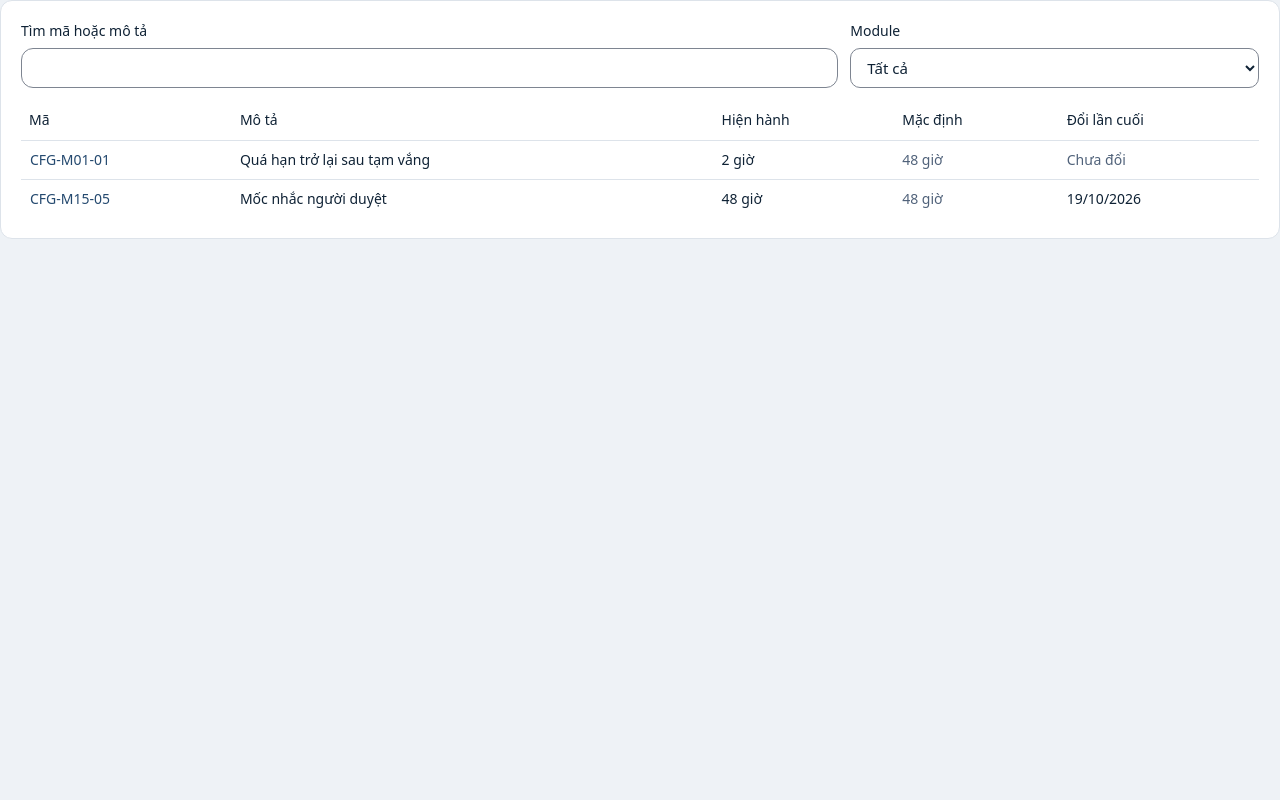
Scenario: ParameterList › bamDong_moKhungChiTiet_doiGiaTri_capNhatDong
Click the button "CFG-M15-05" at (70, 199), box [29,188,111,210]
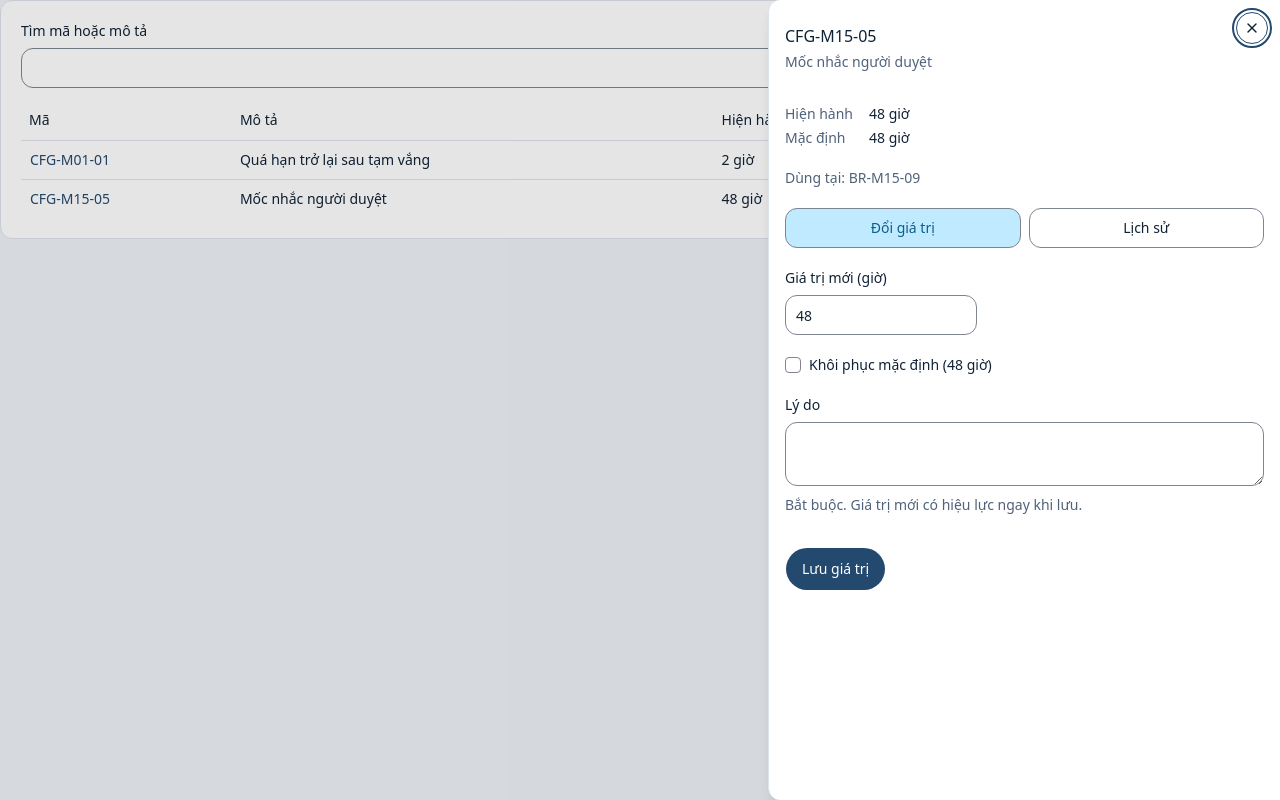
Now the text "Mốc nhắc người duyệt" is shown, box [785,52,932,71]
Now the text "Dùng tại: BR-M15-09" is shown, box [785,168,920,187]
Replace the text in the number field labelled "Giá trị mới (giờ)" with "72" at (881, 315), box [785,295,977,335]
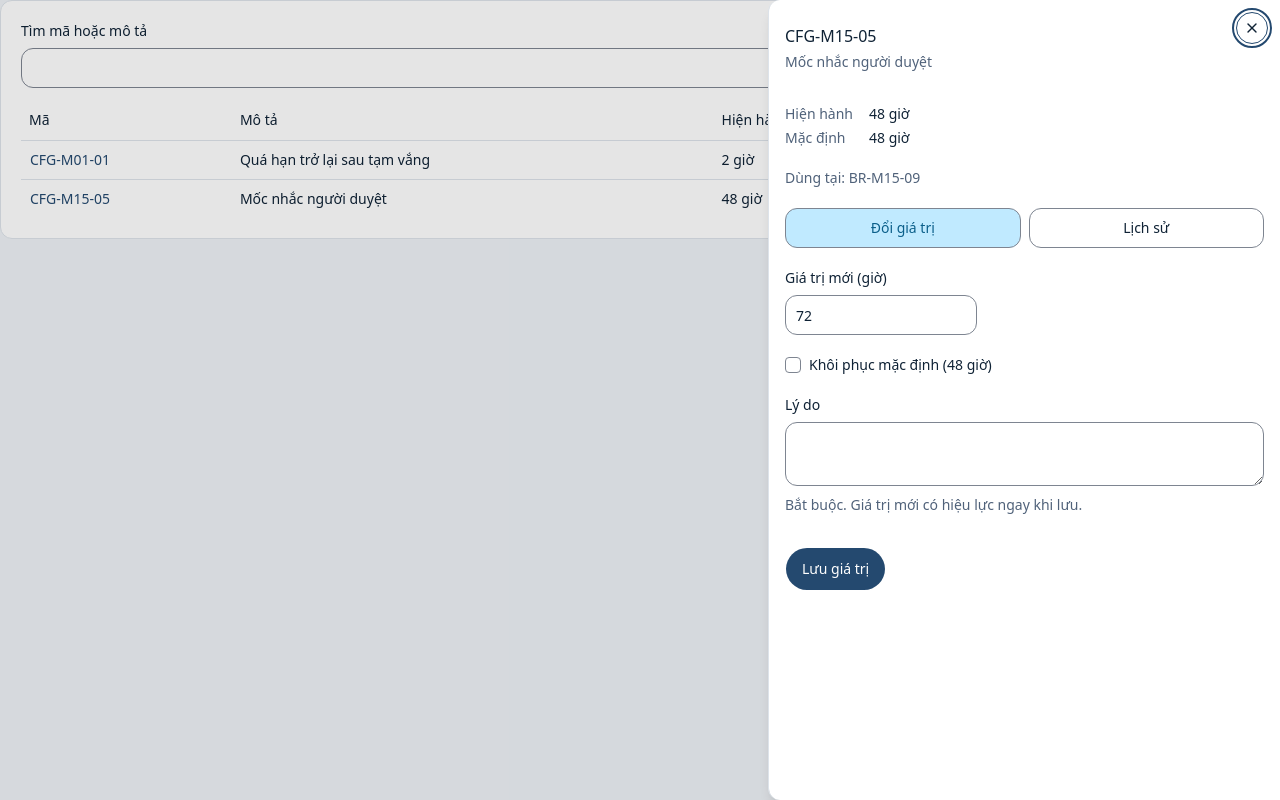
Type "x" into the text box labelled "Lý do" at (1024, 454), box [785,422,1264,486]
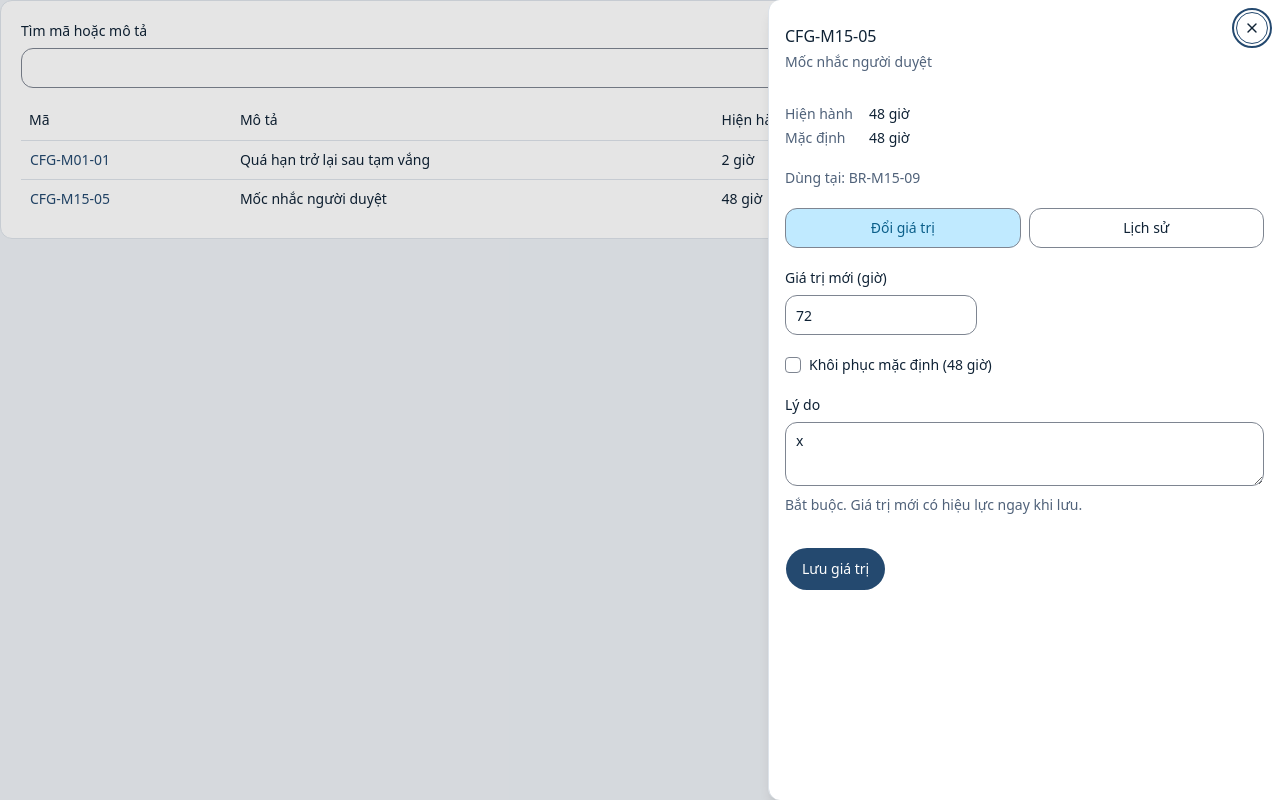
Click the button "Lưu giá trị" at (836, 569), box [785,547,886,591]
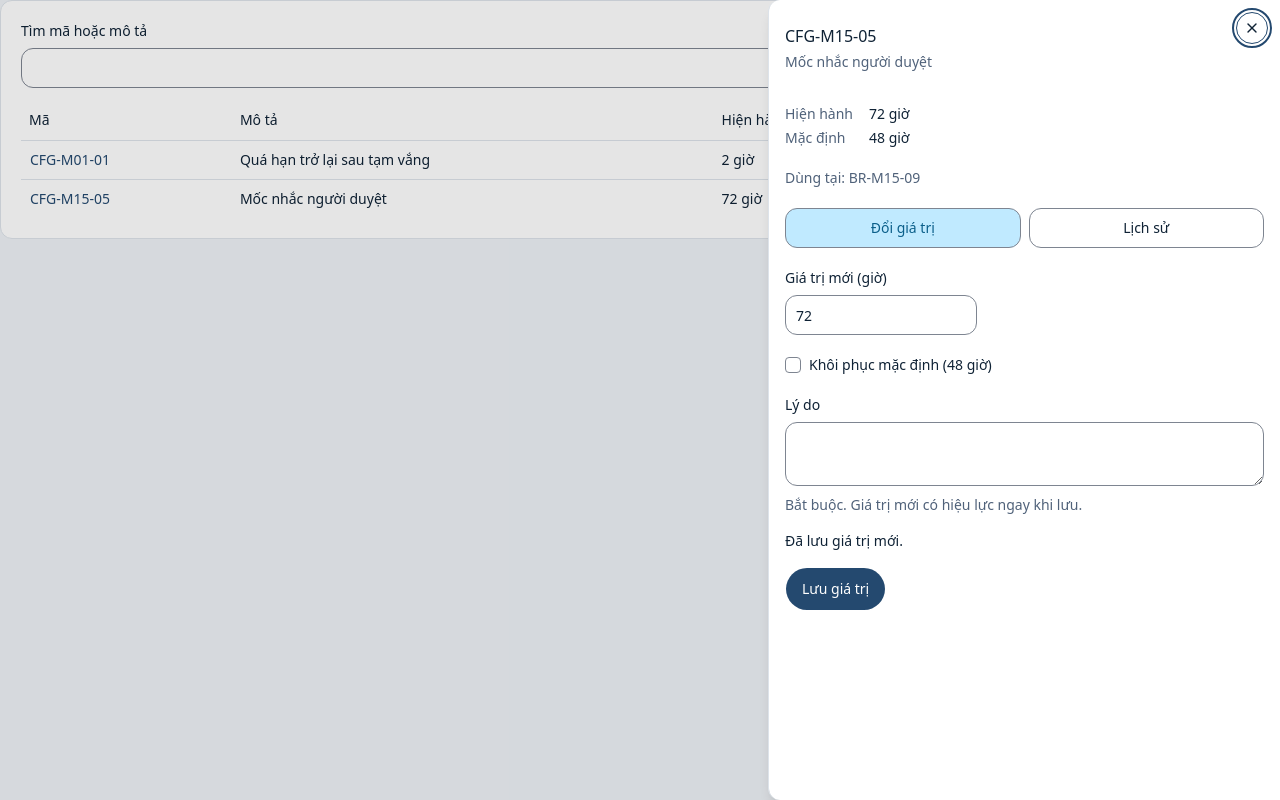
Now the row shows "72 giờ", box [722,189,762,208]
